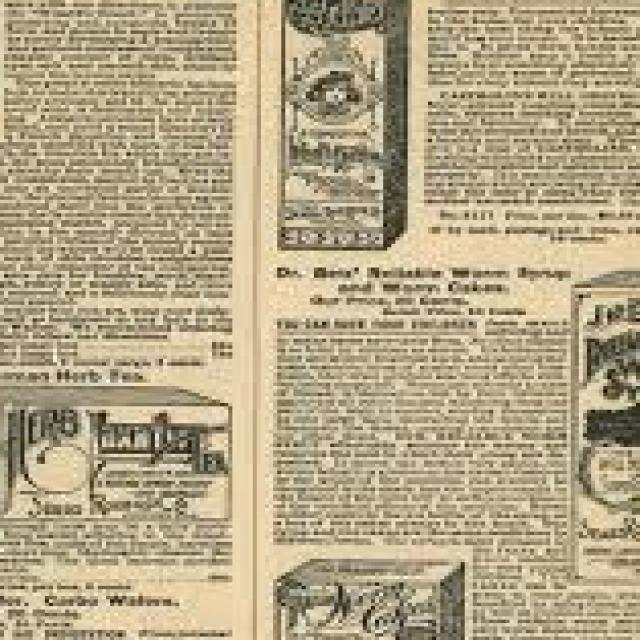organic: (13, 2, 627, 629)
